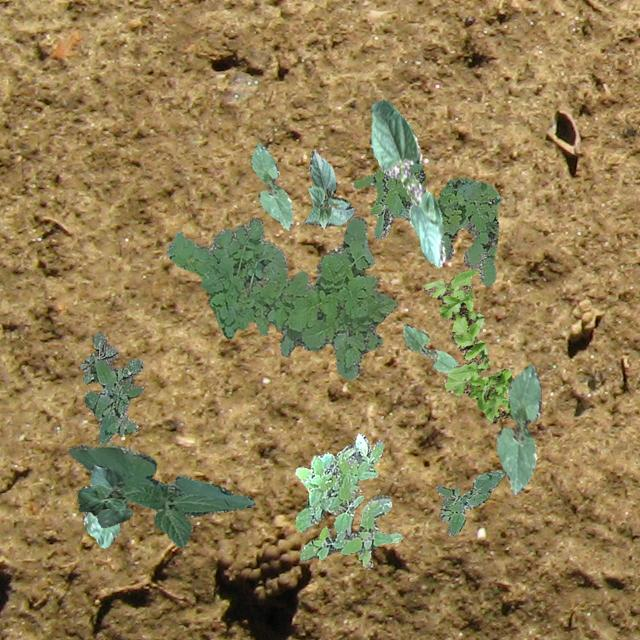crop: (68, 444, 254, 546), (368, 98, 444, 266), (496, 364, 540, 494), (304, 148, 354, 228), (250, 142, 292, 228), (77, 464, 132, 526), (402, 322, 458, 372), (82, 511, 118, 546)
weed: (166, 214, 397, 378), (352, 161, 500, 285), (294, 432, 402, 568), (422, 268, 512, 422), (80, 331, 142, 444), (434, 470, 504, 534)
